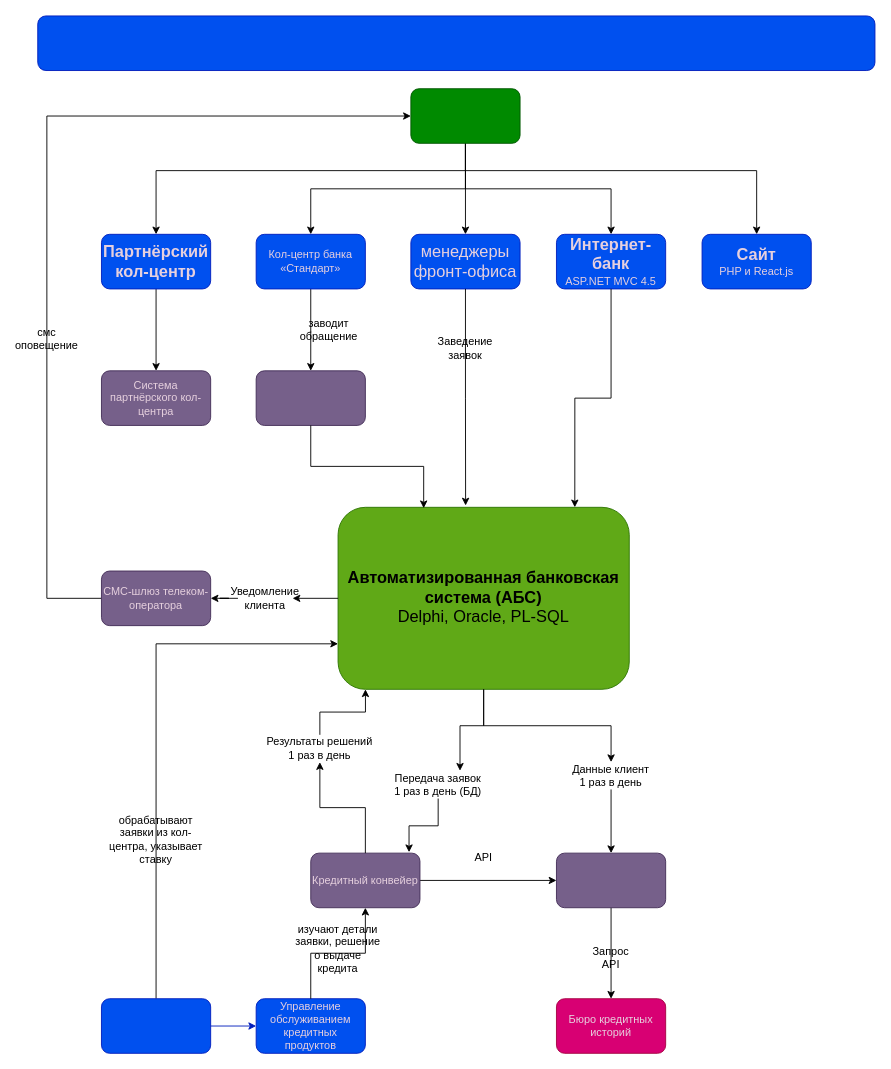
Image size: 891x1069. Some labels were removed from this diagram. Here are the shapes that lost their labels. From the top down, the box of each, then its label:
(37, 15, 875, 71): Схема интеграции приложений с указанием участников процессов
(410, 88, 520, 143): Клиенты
(255, 370, 365, 425): Система кол-центра
(556, 852, 666, 908): Система кредитного скоринга
(101, 998, 211, 1053): Управление обслуживанием депозитных продуктов
